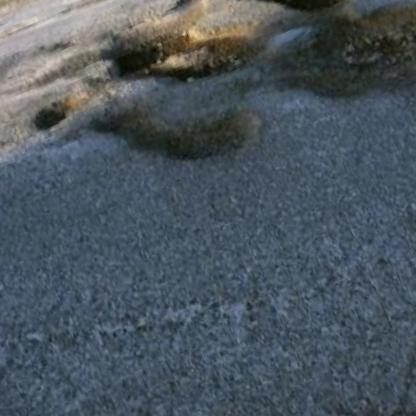pothole: (81, 52, 268, 204), (92, 0, 270, 120), (270, 0, 416, 144), (232, 0, 349, 41), (29, 83, 98, 133)
